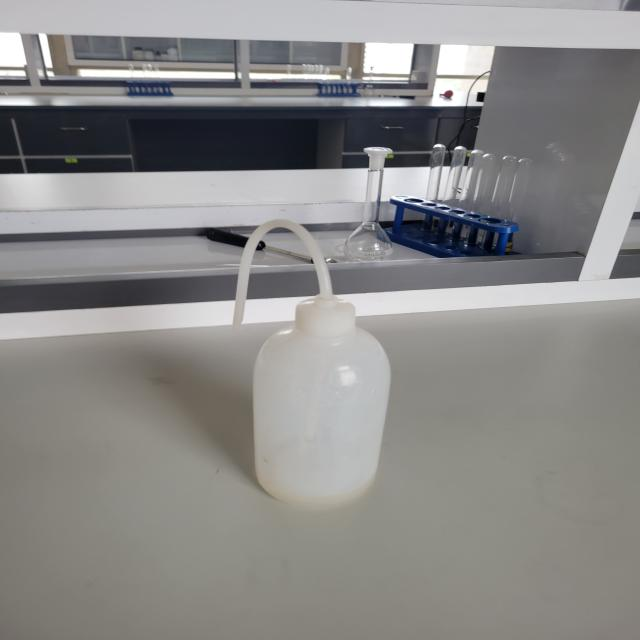Wash_Bottle: (172, 218, 402, 531)
